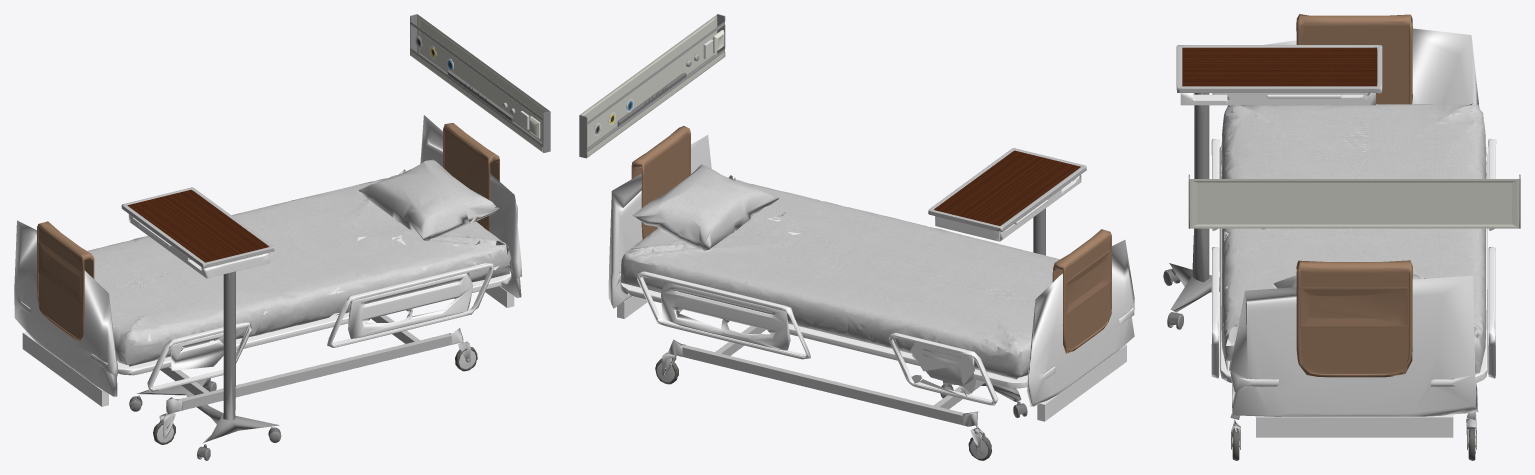
The model's file is bed_a.glb.
The picture shows the model from 3 angles, left to right: view 1: azimuth 30°, elevation 25°; view 2: azimuth 150°, elevation 25°; view 3: azimuth 270°, elevation 25°; orthographic projection. The views are drawn at different scales.
Visible parts, largest first — view 1: bai_bu_liao, bai_su_liao, bai_su_liao_1, bai_qi, mu_wen, Archmodels70_056_01, xj_hei2, chuangjia_x, Archmodels70_056_12, Archmodels70_056_06; view 2: bai_bu_liao, bai_su_liao, bai_su_liao_1, bai_qi, mu_wen, Archmodels70_056_01, chuangjia_x, Archmodels70_056_12, xj_hei2, Archmodels70_056_06; view 3: bai_su_liao, bai_bu_liao, bai_su_liao_1, Archmodels70_056_01, mu_wen, xj_hei2, bai_qi, chuangjia_x, material_12.
Boxes of the visible parts, left/top/right/bottom form: bai_bu_liao: left=87, top=159, right=511, bottom=366; bai_su_liao: left=14, top=115, right=522, bottom=406; bai_su_liao_1: left=37, top=123, right=499, bottom=341; bai_qi: left=121, top=187, right=470, bottom=438; mu_wen: left=127, top=189, right=268, bottom=262; Archmodels70_056_01: left=410, top=15, right=549, bottom=152; xj_hei2: left=129, top=271, right=280, bottom=460; chuangjia_x: left=117, top=235, right=511, bottom=375; Archmodels70_056_12: left=410, top=22, right=542, bottom=147; Archmodels70_056_06: left=410, top=14, right=550, bottom=152; bai_bu_liao: left=620, top=164, right=1059, bottom=379; bai_su_liao: left=608, top=135, right=1134, bottom=421; bai_su_liao_1: left=631, top=126, right=1111, bottom=353; bai_qi: left=662, top=148, right=1086, bottom=452; mu_wen: left=934, top=150, right=1080, bottom=225; Archmodels70_056_01: left=580, top=14, right=724, bottom=157; chuangjia_x: left=620, top=217, right=1027, bottom=388; Archmodels70_056_12: left=587, top=22, right=724, bottom=152; xj_hei2: left=940, top=208, right=1045, bottom=417; Archmodels70_056_06: left=579, top=14, right=725, bottom=158; bai_su_liao: left=1180, top=28, right=1496, bottom=437; bai_bu_liao: left=1221, top=103, right=1486, bottom=373; bai_su_liao_1: left=1296, top=14, right=1412, bottom=377; Archmodels70_056_01: left=1190, top=179, right=1519, bottom=228; mu_wen: left=1182, top=47, right=1377, bottom=86; xj_hei2: left=1163, top=93, right=1219, bottom=329; bai_qi: left=1176, top=45, right=1476, bottom=449; chuangjia_x: left=1219, top=145, right=1487, bottom=382; material_12: left=1232, top=428, right=1475, bottom=460.
Bounding box in the file's own units: 1.92 × 1.11 × 1.12.
Materials: 26 (2 with a texture image).
